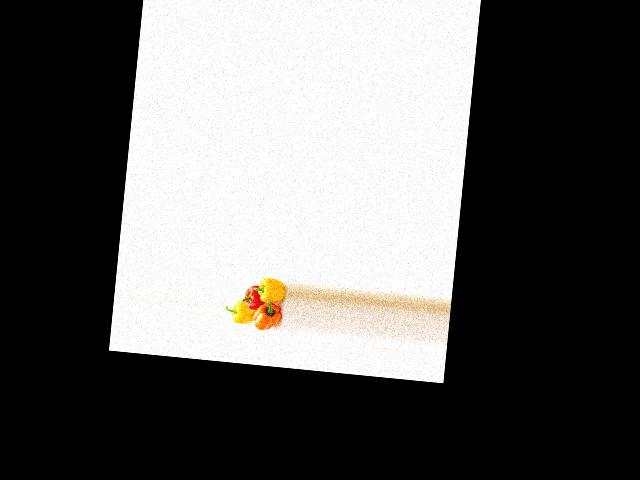bell_pepper: (252, 275, 287, 311)
